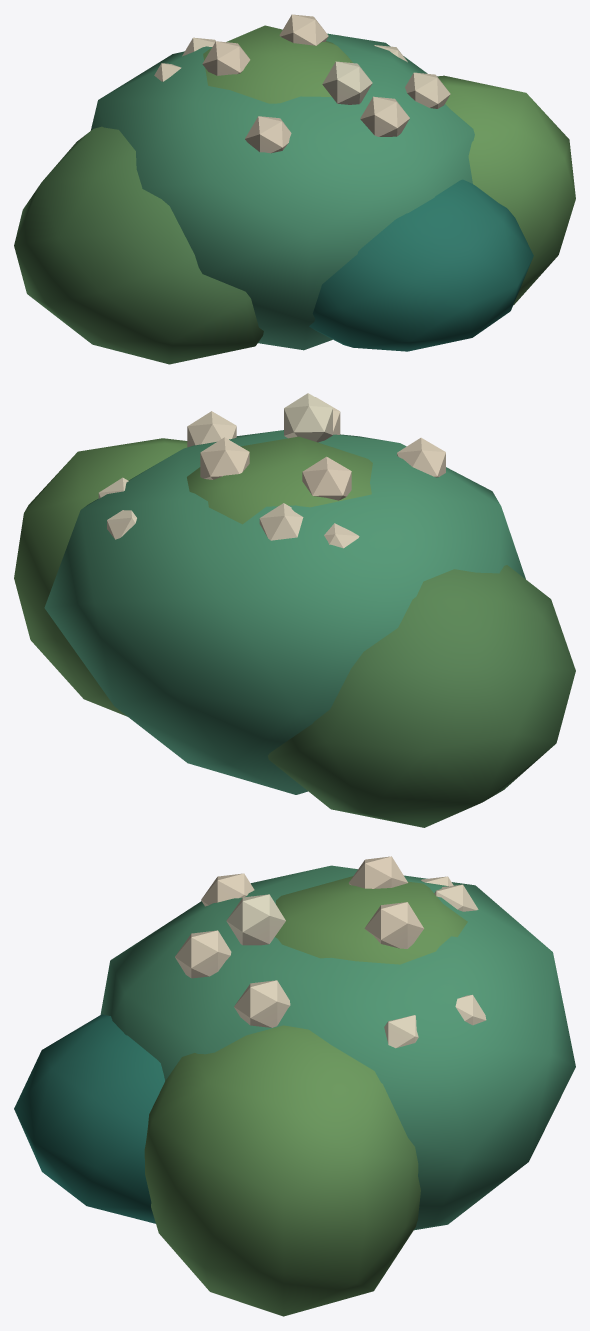
File: bush_white.glb
The picture shows the model from 3 angles, top to bottom: view 1: azimuth 30°, elevation 25°; view 2: azimuth 150°, elevation 25°; view 3: azimuth 270°, elevation 25°; orthographic projection. The views are drawn at different scales.
Parts seen in each view (by area): view 1: bush_white; view 2: bush_white; view 3: bush_white.
Part boxes in pixels (box(x1,y1,x2,y2)): bush_white: box(14, 14, 575, 364); bush_white: box(14, 393, 575, 827); bush_white: box(14, 856, 575, 1316).
Size of the model in its own units: 2.24 by 1.27 by 1.88.
